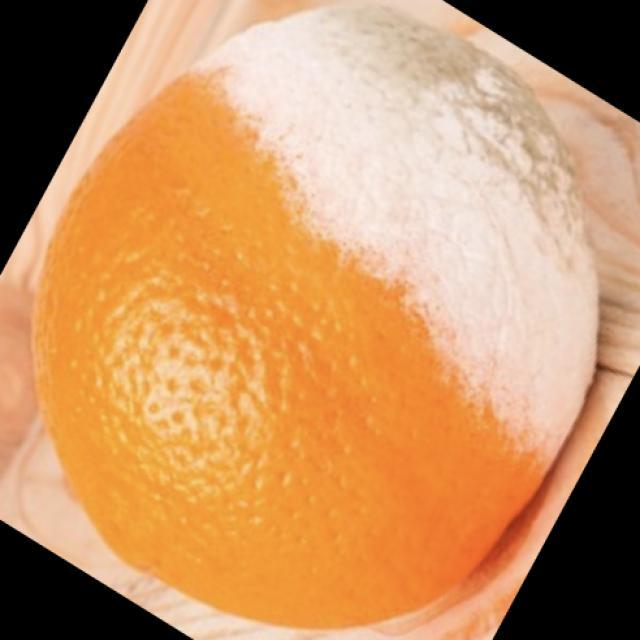sedikit-busuk: (36, 8, 596, 626)
